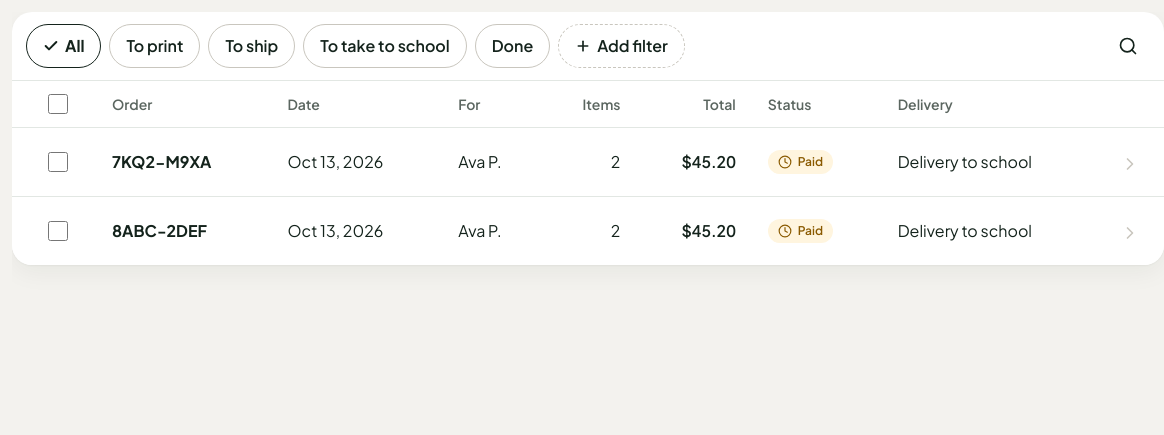
Test: the orders list › marks the selected orders, announces each result and keeps refused ones selected
The image size is (1164, 435).
Click the checkbox next to "7KQ2-M9XA" at point(58, 162), box [48,152,68,172]
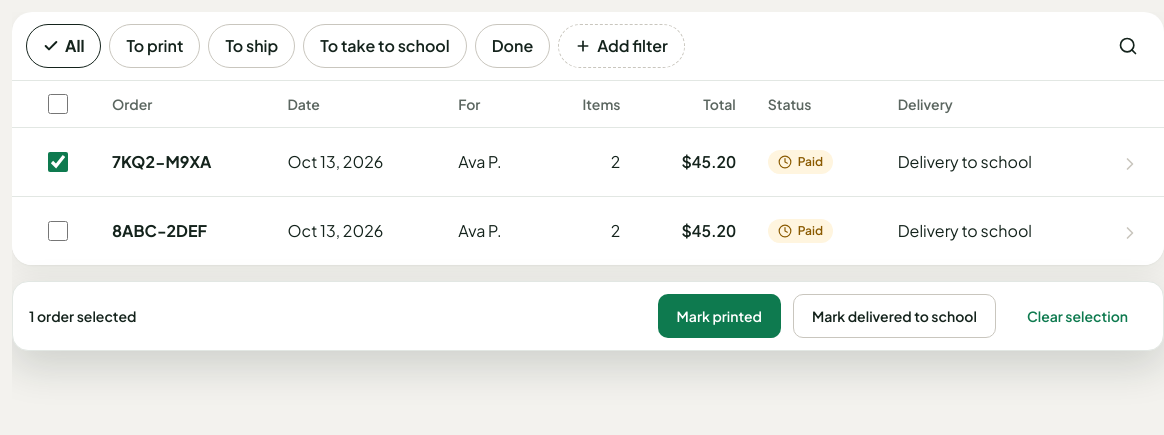
Click the checkbox next to "8ABC-2DEF" at point(58, 231), box [48,221,68,241]
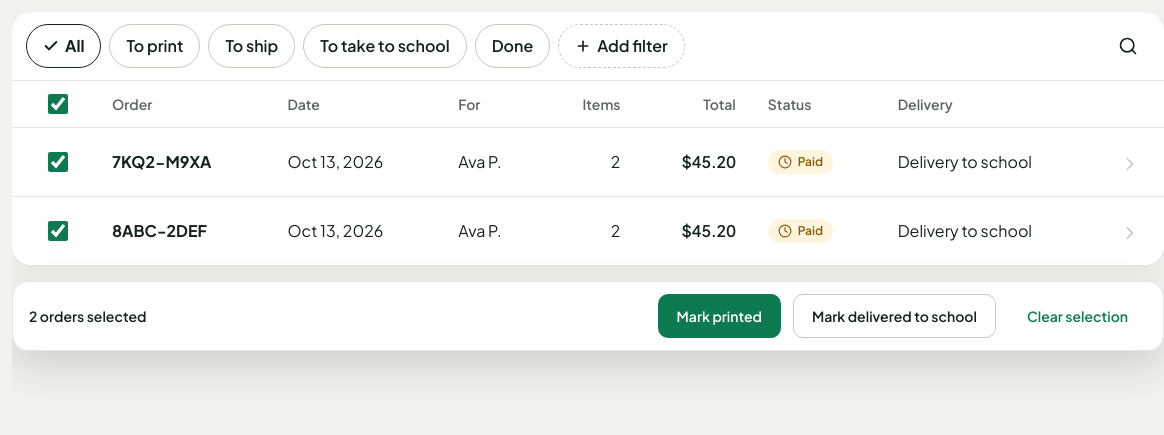
Now the text "2 orders selected" is shown, box [29,307,146,325]
Click the button "Mark printed" at point(719, 316), box [658,294,781,338]
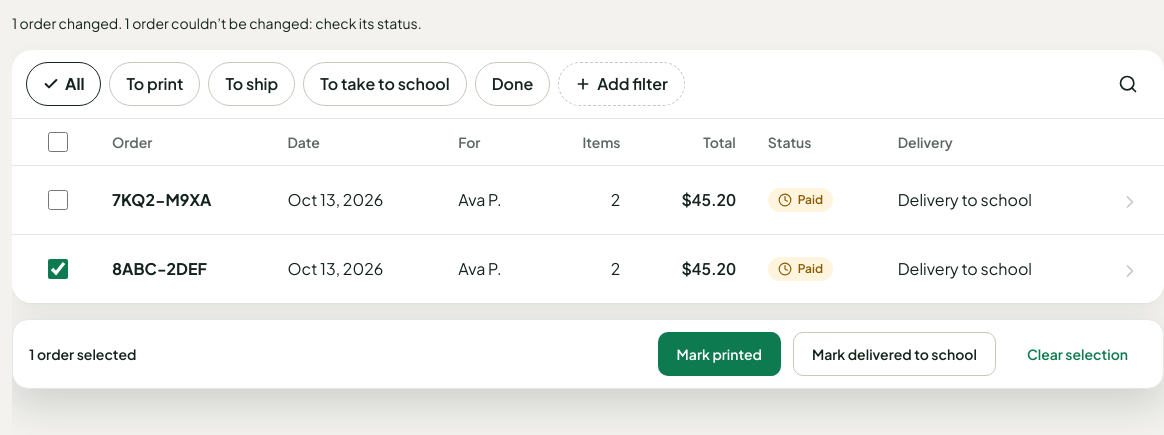
Now the checkbox next to "8ABC-2DEF" is checked, box [48,259,68,279]
Now the message "1 order changed. 1 order couldn’t be changed: check its status." is shown, box [12,14,422,32]
Now the text "1 order selected" is shown, box [29,345,136,363]
